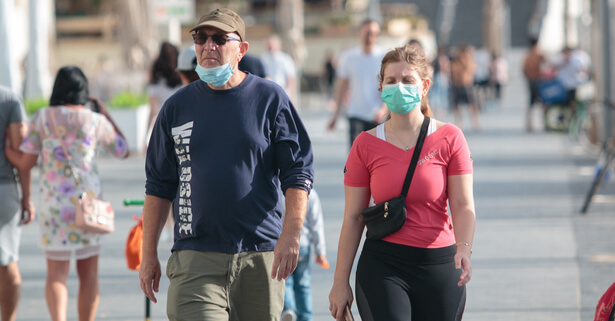with_incorrect_mask: (194, 31, 237, 84)
with_mask: (383, 66, 422, 115)
